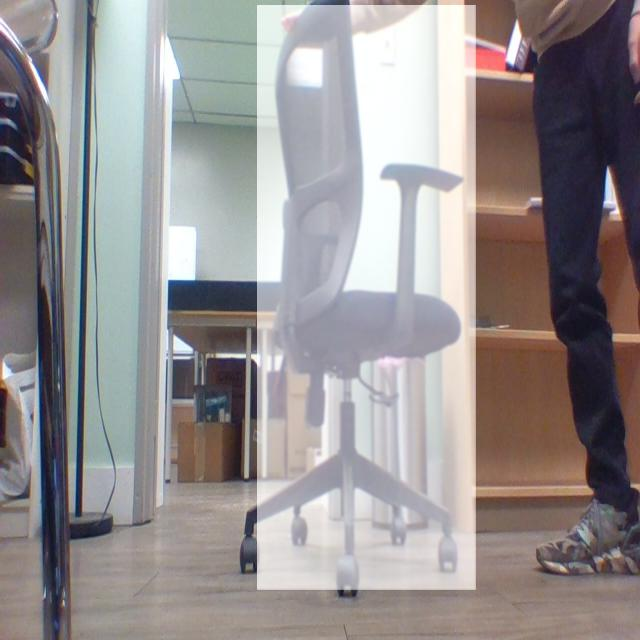black-chair: (257, 5, 477, 591)
